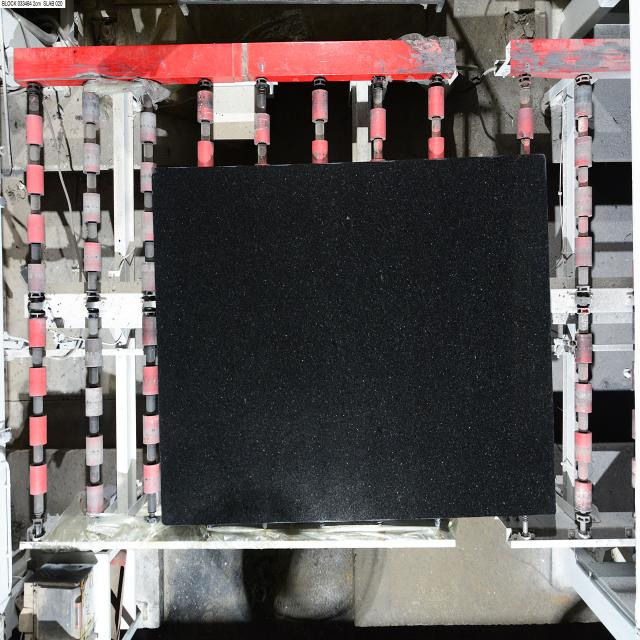chapa: (152, 156, 554, 525)
